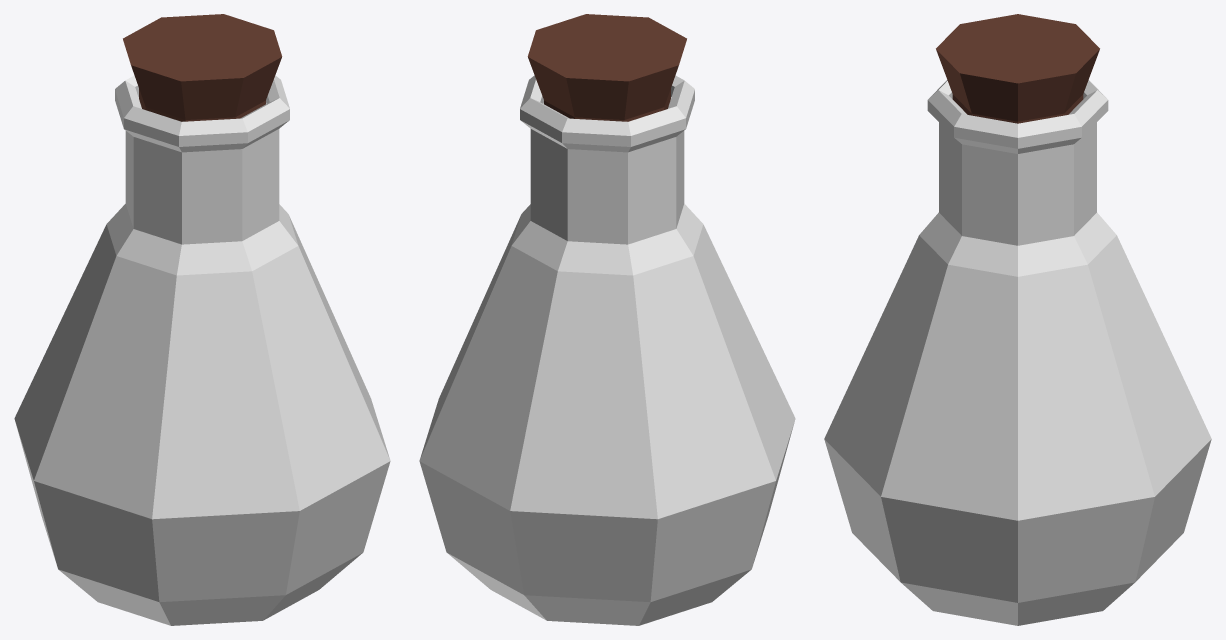
Rendered from m_Item_medi03.FBX.
3 views of the same model, side by side, from view 1: azimuth 30°, elevation 25°; view 2: azimuth 150°, elevation 25°; view 3: azimuth 270°, elevation 25° (orthographic).
Parts seen in each view (by area): view 1: Cylinder, ca; view 2: Cylinder, ca; view 3: Cylinder, ca.
Boxes of the visible parts, bbox=[...] form: Cylinder: bbox=[14, 75, 390, 625]; ca: bbox=[123, 14, 282, 121]; Cylinder: bbox=[419, 75, 795, 625]; ca: bbox=[527, 14, 686, 121]; Cylinder: bbox=[824, 80, 1211, 625]; ca: bbox=[936, 14, 1099, 123].
Size of the model in its own units: 22.81 by 34.19 by 22.81.
